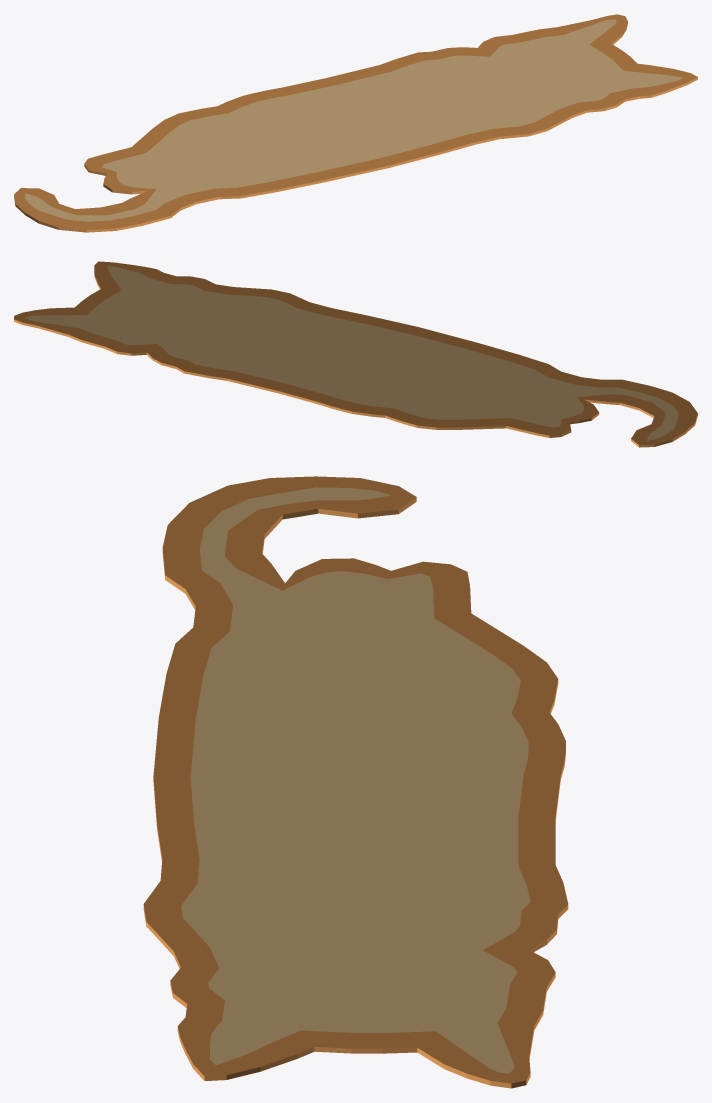
Rendered from Cat Style Mat.fbx.
3 views of the same model, one above another, from view 1: azimuth 30°, elevation 25°; view 2: azimuth 150°, elevation 25°; view 3: azimuth 270°, elevation 25° (orthographic). The views are drawn at different scales.
Visible parts, largest first — view 1: Node 0; view 2: Node 0; view 3: Node 0.
Boxes of the visible parts, box(x1,y1,x2,y2) form: Node 0: box(14, 14, 697, 232); Node 0: box(14, 261, 697, 447); Node 0: box(143, 476, 568, 1088).
Bounding box in the file's own units: 1.36 × 0.00509 × 0.4027.
